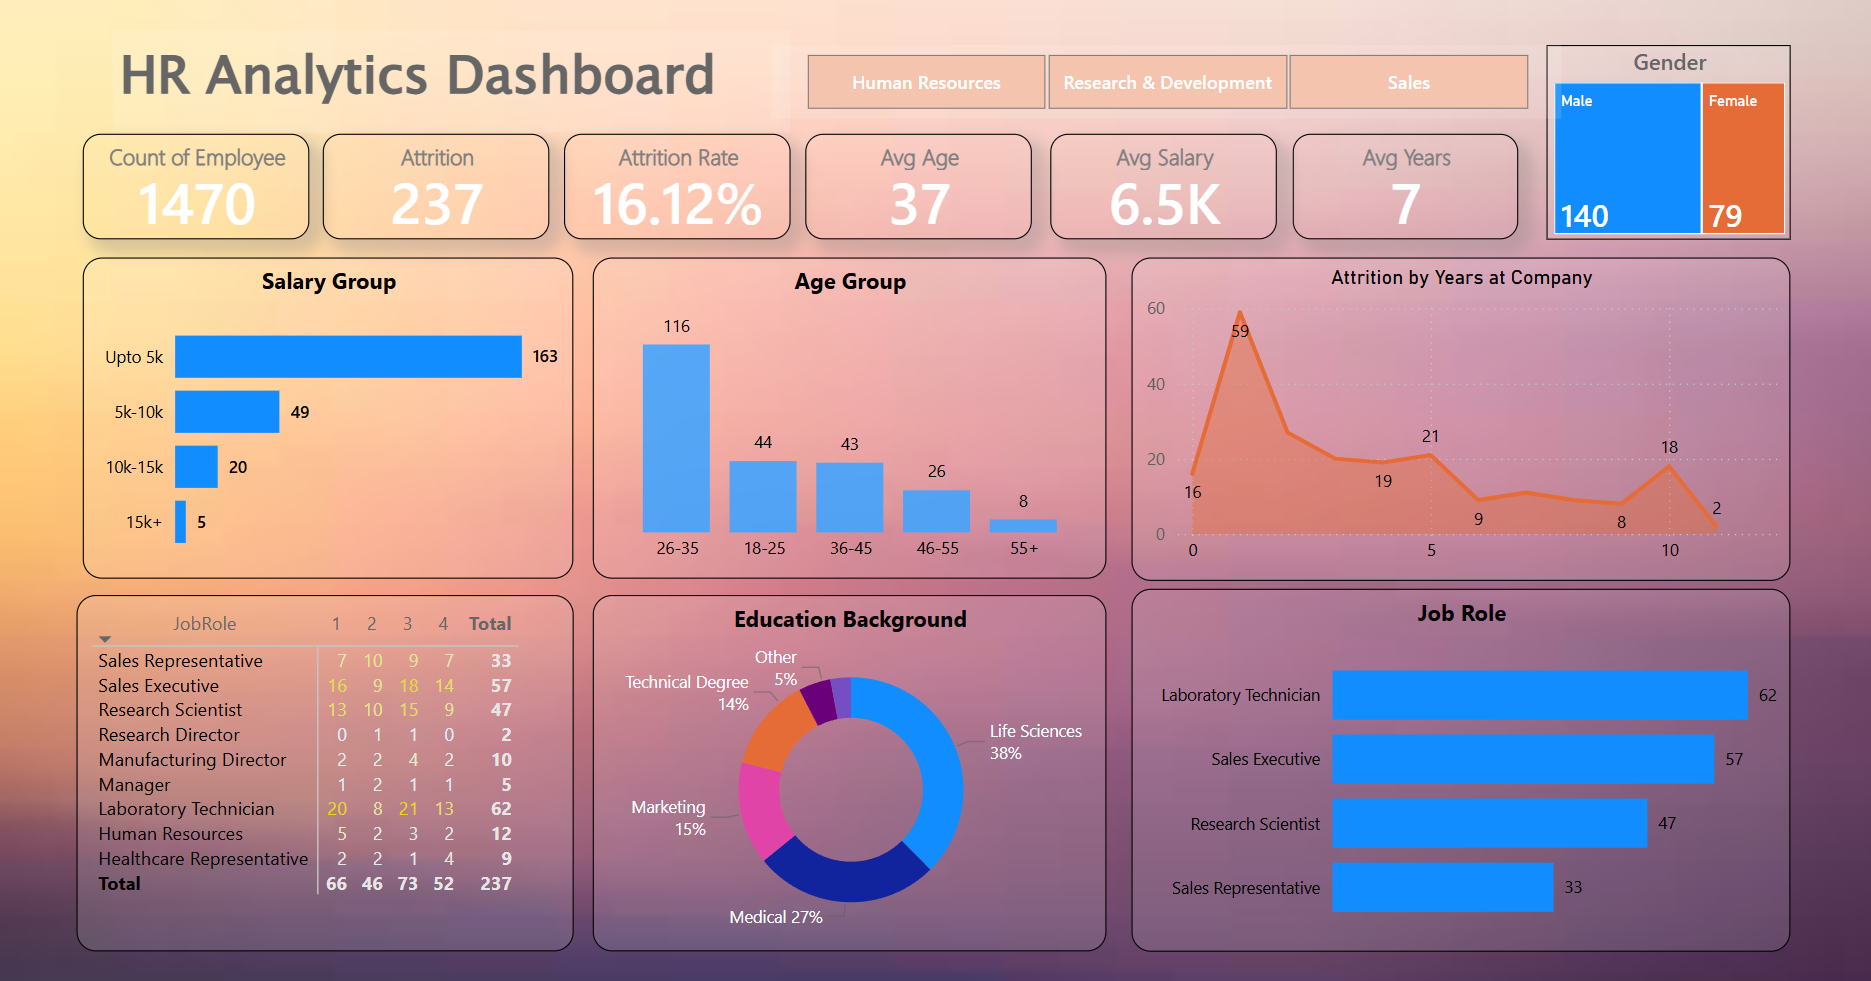

The dashboard page shown, as its layout file describes it:
{"tool":"powerbi","page":{"name":"HR DB","canvas":[1280,720],"ordinal":0},"visuals":[{"type":"card","title":"Count of Employee","fields":{"Values":["Sum(HR_Analytics.EmployeeCount)"]},"box":[17.4,97.7,165.1,76.7],"z":0},{"type":"card","title":"Attrition","fields":{"Values":["Sum(HR_Analytics.Attrition Count)"]},"box":[191.9,97.7,165.1,76.7],"z":1000},{"type":"card","title":"Attrition Rate","fields":{"Values":["HR_Analytics.Attrition Rate"]},"box":[367.4,97.7,165.1,76.7],"z":2000},{"type":"card","title":"Avg Age","fields":{"Values":["Avg(HR_Analytics.Age)"]},"box":[543,97.7,165.1,76.7],"z":3000},{"type":"card","title":"Avg Years","fields":{"Values":["Avg(HR_Analytics.YearsAtCompany)"]},"box":[897.7,97.7,164,76.7],"z":4000},{"type":"card","title":"Avg Salary","fields":{"Values":["Avg(HR_Analytics.MonthlyIncome)"]},"box":[720.9,97.7,165.1,76.7],"z":5000},{"type":"donutChart","title":"Education Background","fields":{"Category":["HR_Analytics.EducationField"],"Y":["Sum(HR_Analytics.Attrition Count)"]},"box":[388.4,432.6,373.3,259.3],"z":6000},{"type":"clusteredColumnChart","title":"Age Group","fields":{"Category":["HR_Analytics.AgeGroup"],"Y":["Sum(HR_Analytics.Attrition Count)"]},"box":[388.4,187.2,373.3,233.7],"z":7000},{"type":"pivotTable","fields":{"Rows":["HR_Analytics.JobRole"],"Columns":["HR_Analytics.JobSatisfaction"],"Values":["Sum(HR_Analytics.Attrition Count)"]},"box":[12.8,432.6,361.6,259.3],"z":8000},{"type":"clusteredBarChart","title":"Salary Group","fields":{"Category":["HR_Analytics.SalarySlab"],"Y":["Sum(HR_Analytics.Attrition Count)"]},"box":[17.4,187.2,357,233.7],"z":9000},{"type":"clusteredBarChart","title":"Job Role","fields":{"Category":["HR_Analytics.JobRole"],"Y":["Sum(HR_Analytics.Attrition Count)"]},"box":[780.2,427.9,479.1,264],"z":10000},{"type":"areaChart","title":"Years at Company","fields":{"Category":["HR_Analytics.YearsAtCompany"],"Y":["Sum(HR_Analytics.Attrition Count)"]},"box":[780.2,187.2,479.1,234.9],"z":11000},{"type":"treemap","title":"Gender","fields":{"Group":["HR_Analytics.Gender"],"Values":["Sum(HR_Analytics.Attrition Count)"]},"box":[1081.4,32.6,177.9,141.9],"z":12000},{"type":"slicer","title":"Department","fields":{"Values":["HR_Analytics.Department"]},"box":[518.6,32.6,574.4,53.5],"z":13000},{"type":"textbox","box":[39.5,22.1,493,74.4],"z":14000}]}

Visuals, with their boxes in screenshot pixels (x1, y1, x2, y2):
"Count of Employee" card: <region>68, 126, 298, 233</region>
"Attrition" card: <region>311, 126, 540, 233</region>
"Attrition Rate" card: <region>555, 126, 784, 233</region>
"Avg Age" card: <region>799, 126, 1029, 233</region>
"Avg Years" card: <region>1292, 126, 1520, 233</region>
"Avg Salary" card: <region>1046, 126, 1276, 233</region>
"Education Background" donutChart: <region>584, 592, 1103, 952</region>
"Age Group" clusteredColumnChart: <region>584, 251, 1103, 576</region>
pivotTable - HR_Analytics.JobRole x HR_Analytics.JobSatisfaction: <region>62, 592, 565, 952</region>
"Salary Group" clusteredBarChart: <region>68, 251, 565, 576</region>
"Job Role" clusteredBarChart: <region>1129, 585, 1795, 952</region>
"Years at Company" areaChart: <region>1129, 251, 1795, 577</region>
"Gender" treemap: <region>1548, 36, 1795, 233</region>
"Department" slicer: <region>765, 36, 1564, 110</region>
textbox: <region>99, 21, 784, 124</region>
